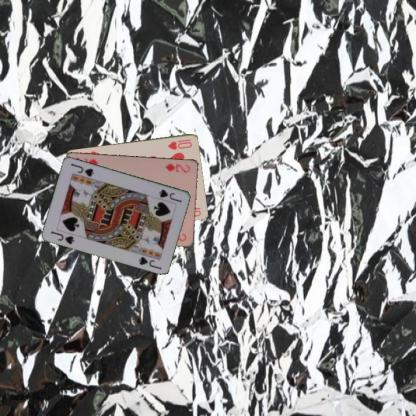10h: (165, 136, 193, 151)
2d: (163, 160, 191, 173)
Js: (48, 228, 76, 245), (157, 187, 183, 204)
